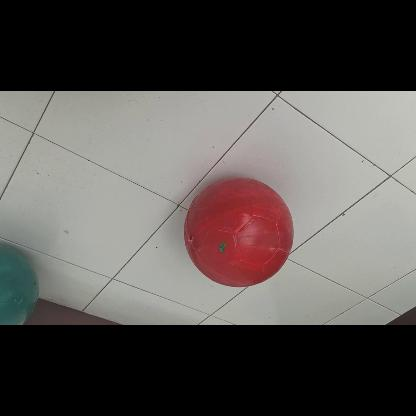red_ball: (184, 180, 294, 290)
